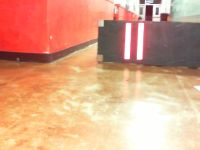switch: (124, 23, 132, 60), (136, 23, 144, 60)
